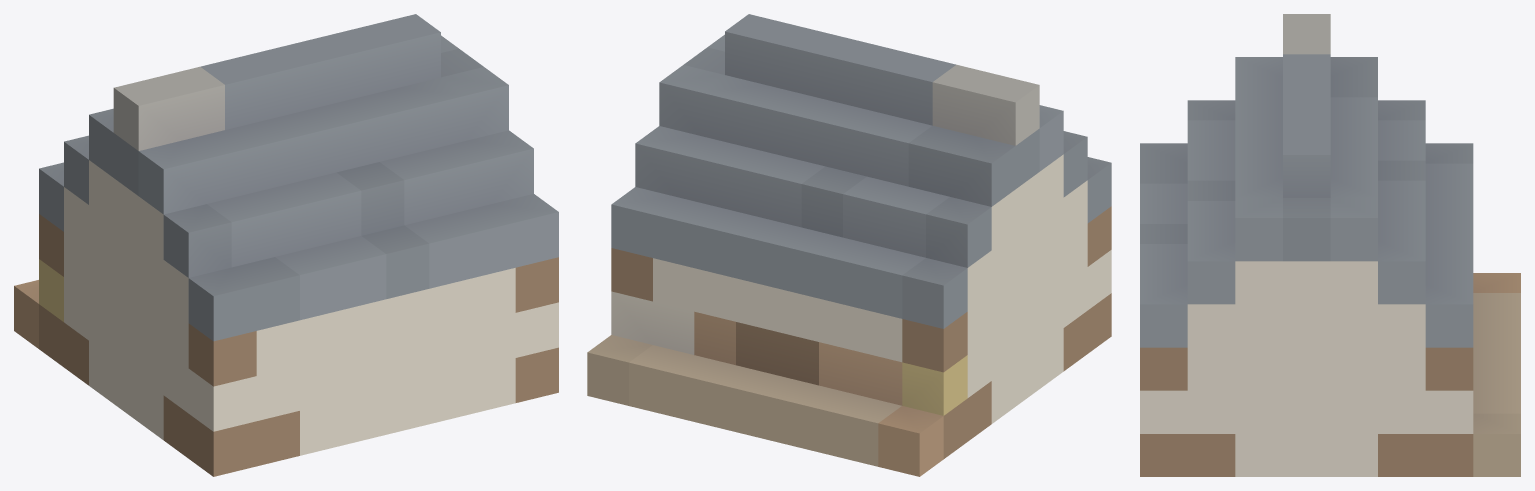
Rendered from slaughterhouse.lite.glb.
3 views of the same model, side by side, from view 1: azimuth 30°, elevation 25°; view 2: azimuth 150°, elevation 25°; view 3: azimuth 270°, elevation 25° (orthographic). The views are drawn at different scales.
Visible parts, largest first — view 1: slaughterhouse; view 2: slaughterhouse; view 3: slaughterhouse.
Part boxes in pixels (x1,y1,x2,y2): slaughterhouse: [14, 14, 558, 476]; slaughterhouse: [587, 14, 1111, 476]; slaughterhouse: [1140, 14, 1520, 476].
Size of the model in its own units: 4 by 3.5 by 4.
